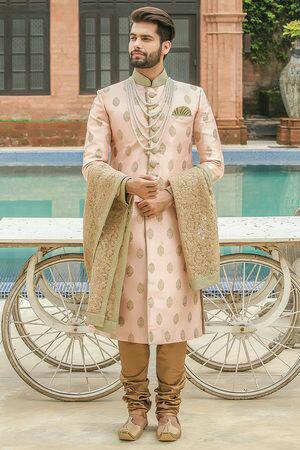Design Sherwani: (83, 75, 225, 348)
